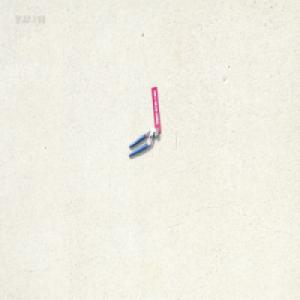Label: (150, 87, 161, 135)
Pliers: (128, 127, 159, 158)
